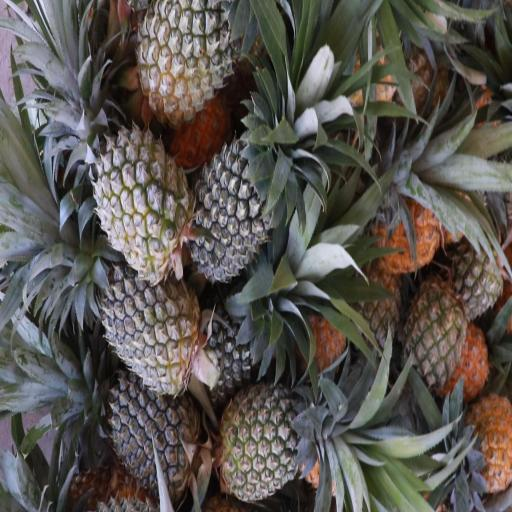------------------------------: (100, 120, 189, 272), (220, 378, 318, 498), (144, 0, 242, 112), (405, 284, 470, 388)
Pineapple - v8 v1: (376, 174, 442, 268), (457, 392, 512, 494)
